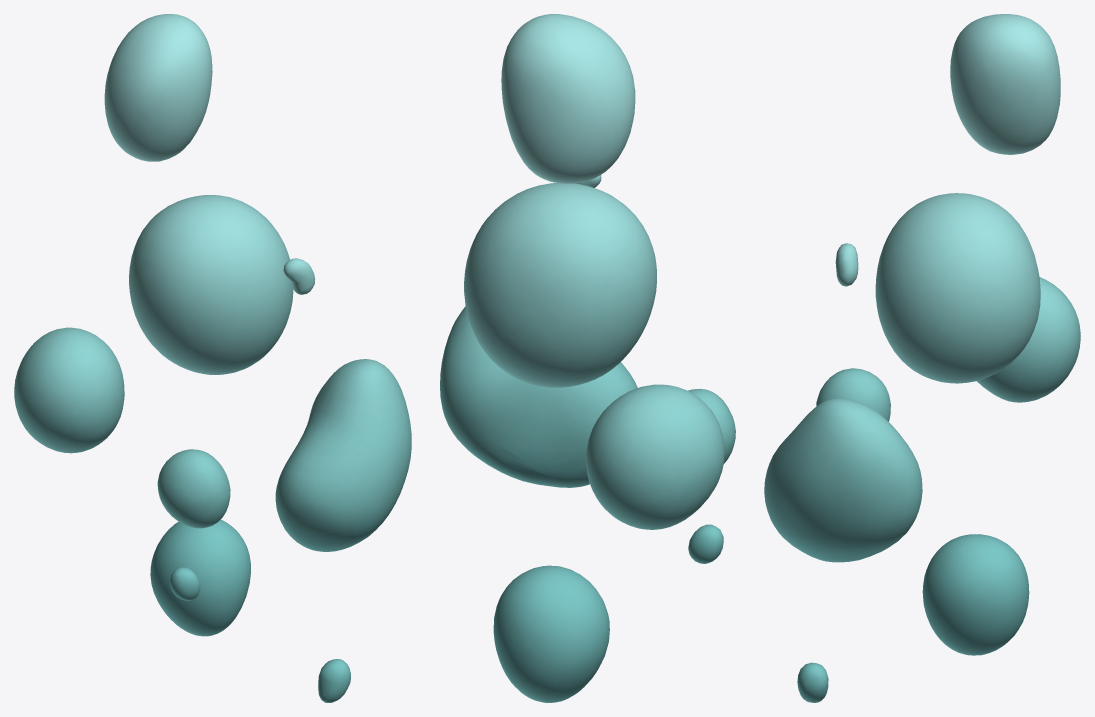
The model's file is sky_bubble_a.glb.
3 views of the same model, side by side, from view 1: azimuth 30°, elevation 25°; view 2: azimuth 150°, elevation 25°; view 3: azimuth 270°, elevation 25° (orthographic). The views are drawn at different scales.
Parts seen in each view (by area): view 1: bubble_a; view 2: bubble_a; view 3: bubble_a.
Boxes of the visible parts, x1,y1,x2,y2 form: bubble_a: (14,14,411,702); bubble_a: (440,14,735,702); bubble_a: (764,14,1080,702).
Size of the model in its own units: 5.3 by 10.55 by 4.66.
Materials: 1 (1 with a texture image).
